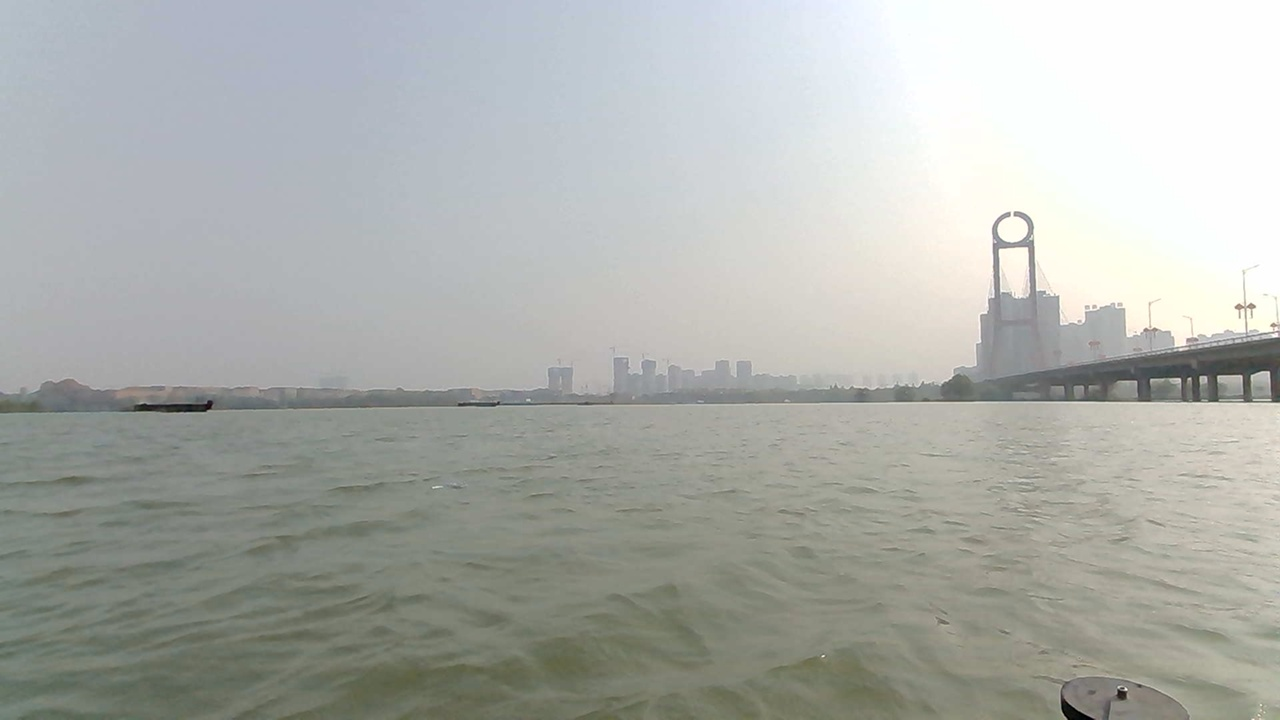bottle: (424, 474, 478, 502)
